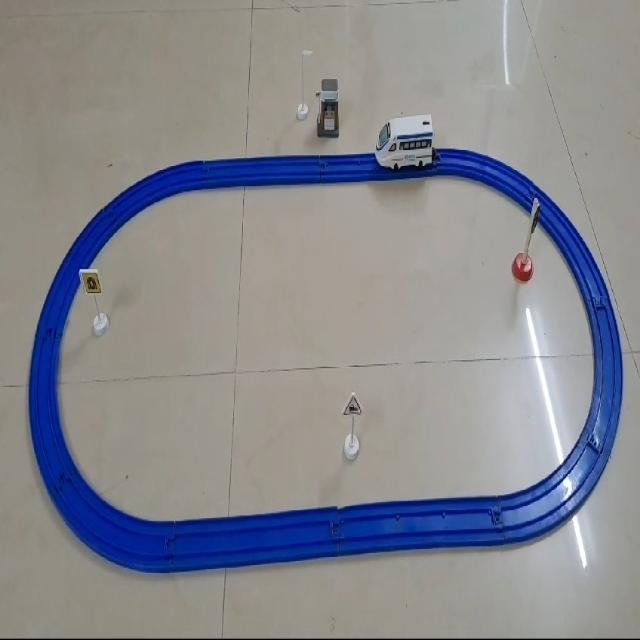bus: (374, 111, 436, 172)
